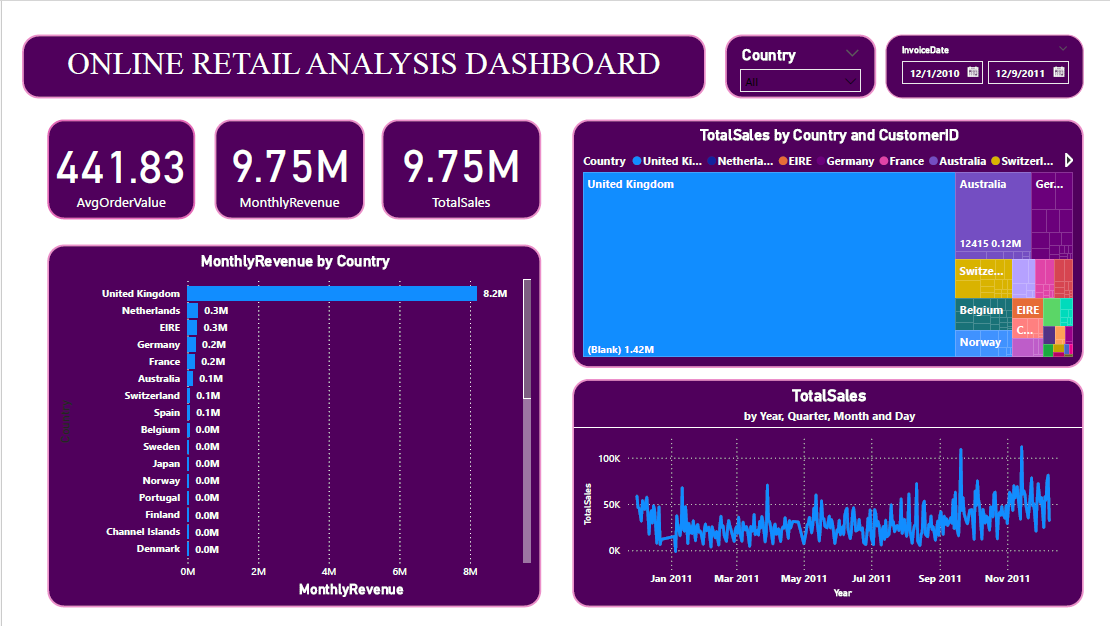

The dashboard page shown, as its layout file describes it:
{"tool":"powerbi","page":{"name":"Online retail dashboard","canvas":[1280,720],"ordinal":0},"visuals":[{"type":"lineChart","fields":{"Y":["online retail data.TotalSales"],"Category":["online retail data.InvoiceDate.Variation.Date Hierarchy.Year","online retail data.InvoiceDate.Variation.Date Hierarchy.Quarter","online retail data.InvoiceDate.Variation.Date Hierarchy.Month","online retail data.InvoiceDate.Variation.Date Hierarchy.Day"]},"box":[655.2,426.2,609.1,272.2],"z":0},{"type":"treemap","fields":{"Values":["online retail data.TotalSales"],"Details":["online retail data.CustomerID"],"Group":["online retail data.Country"]},"box":[655.2,116.6,609.1,296.6],"z":1000},{"type":"slicer","fields":{"Values":["online retail data.Country"]},"box":[836.6,15.8,180,76.3],"z":2000},{"type":"slicer","fields":{"Values":["online retail data.InvoiceDate"]},"box":[1028.2,15.8,236.2,76.3],"z":3000},{"type":"clusteredBarChart","fields":{"Y":["online retail data.MonthlyRevenue"],"Category":["online retail data.Country"]},"box":[30.2,266.4,587.5,432],"z":4000},{"type":"card","fields":{"Values":["online retail data.AvgOrderValue"]},"box":[30.2,116.6,175.7,119.5],"z":5000},{"type":"card","fields":{"Values":["online retail data.MonthlyRevenue"]},"box":[229,116.6,178.6,119.5],"z":6000},{"type":"card","fields":{"Values":["online retail data.TotalSales"]},"box":[427.7,116.6,190.1,119.5],"z":7000},{"type":"textbox","box":[0,15.8,813.6,76.3],"z":8000}]}

Visuals, with their boxes in screenshot pixels (x1, y1, x2, y2), scaled from the page's 1280x720 canvas onto the 1110x626 screenshot:
lineChart - online retail data.TotalSales x online retail data.InvoiceDate.Variation.Date Hierarchy.Year: x1=568 y1=371 x2=1096 y2=607
treemap - online retail data.TotalSales x online retail data.CustomerID: x1=568 y1=101 x2=1096 y2=359
slicer - online retail data.Country: x1=725 y1=14 x2=882 y2=80
slicer - online retail data.InvoiceDate: x1=892 y1=14 x2=1096 y2=80
clusteredBarChart - online retail data.MonthlyRevenue x online retail data.Country: x1=26 y1=232 x2=536 y2=607
card - online retail data.AvgOrderValue: x1=26 y1=101 x2=179 y2=205
card - online retail data.MonthlyRevenue: x1=199 y1=101 x2=353 y2=205
card - online retail data.TotalSales: x1=371 y1=101 x2=536 y2=205
textbox: x1=0 y1=14 x2=706 y2=80
